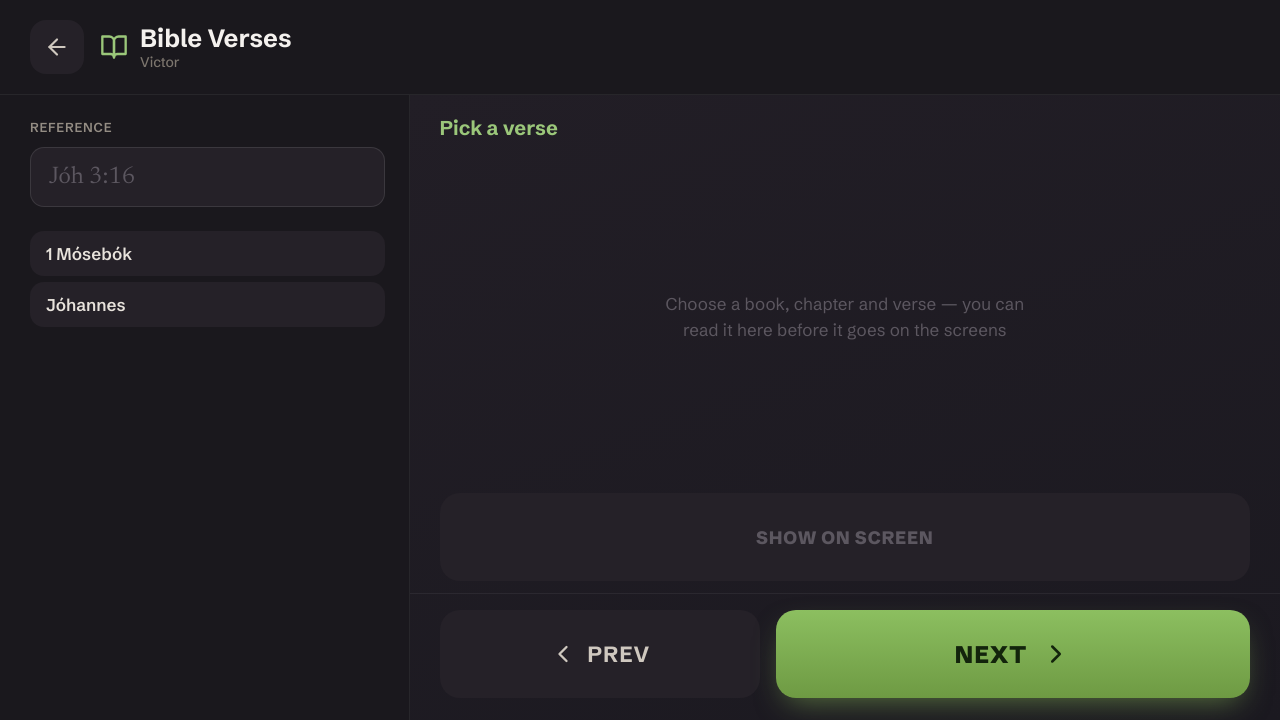
Bible view › says so when the book name doesn’t resolve
The image size is (1280, 720).
Type "Nonsense 3:16" into the field labelled "Reference" at [207, 177], box [30,147,385,207]
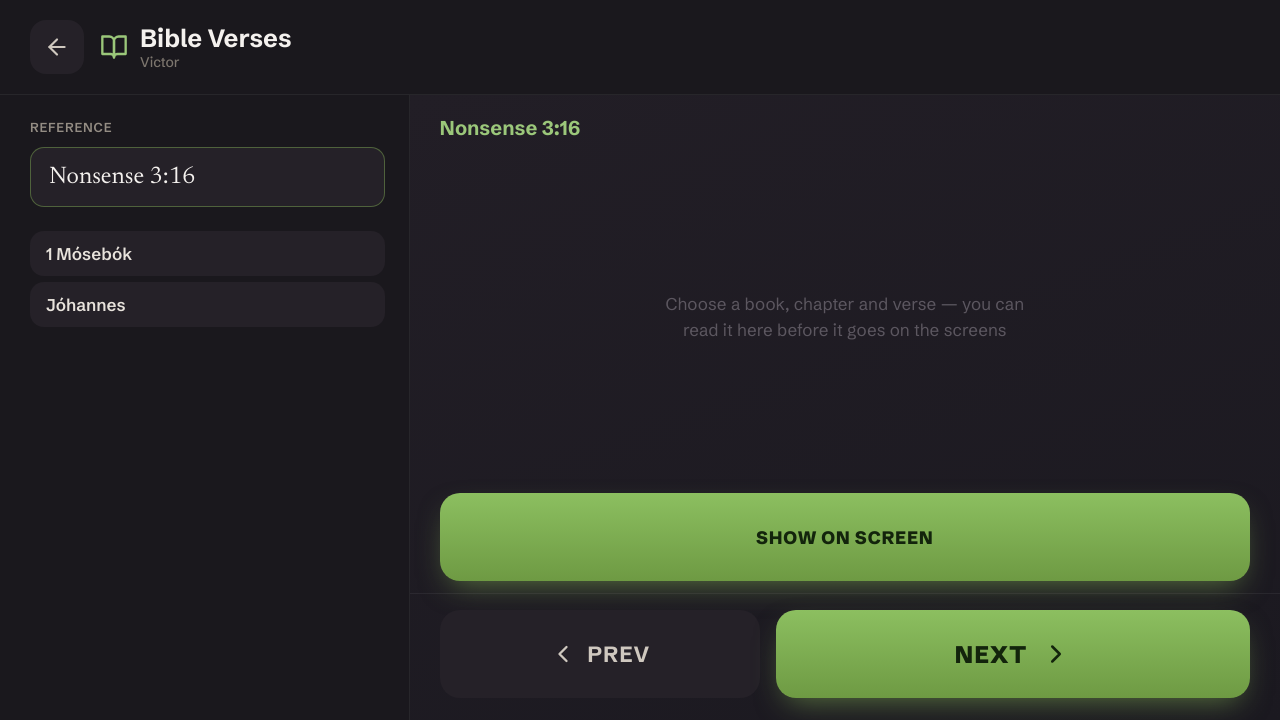
Click the button "SHOW ON SCREEN" at [845, 537], box [440,493,1250,581]
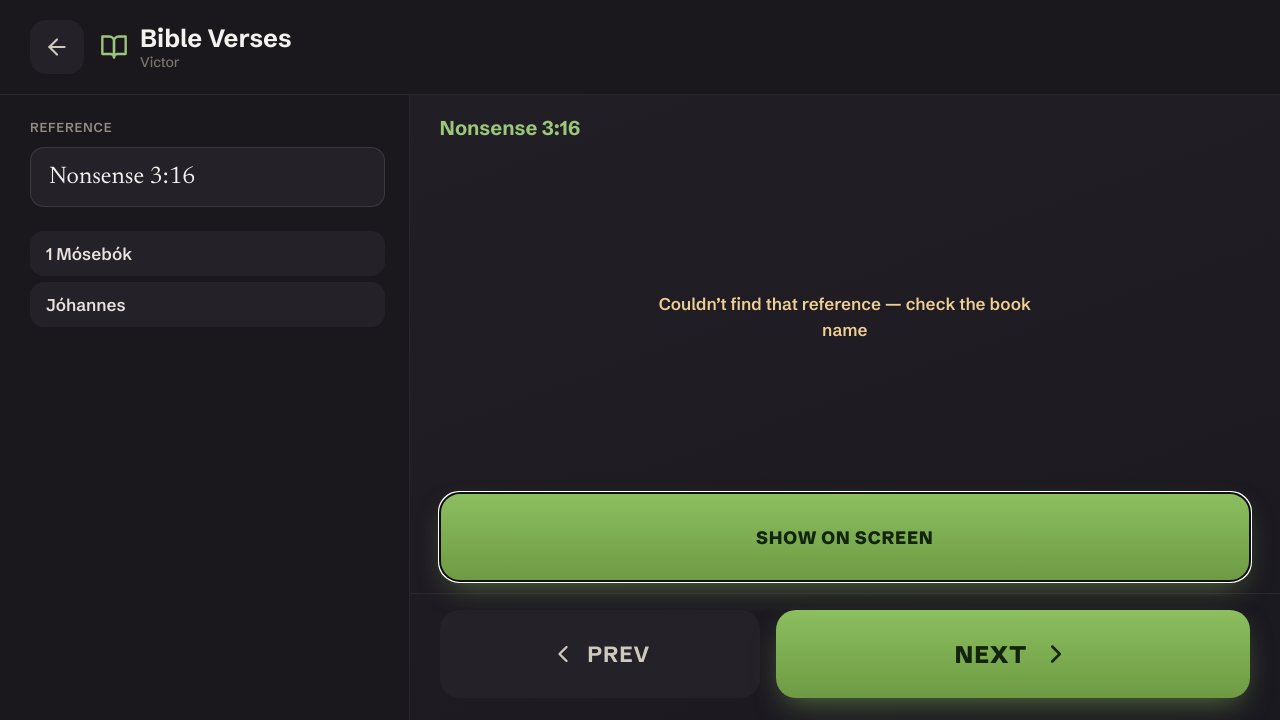
Expected: the text "Couldn’t find that reference — check the book name" is shown, [658,291,1032,342]
